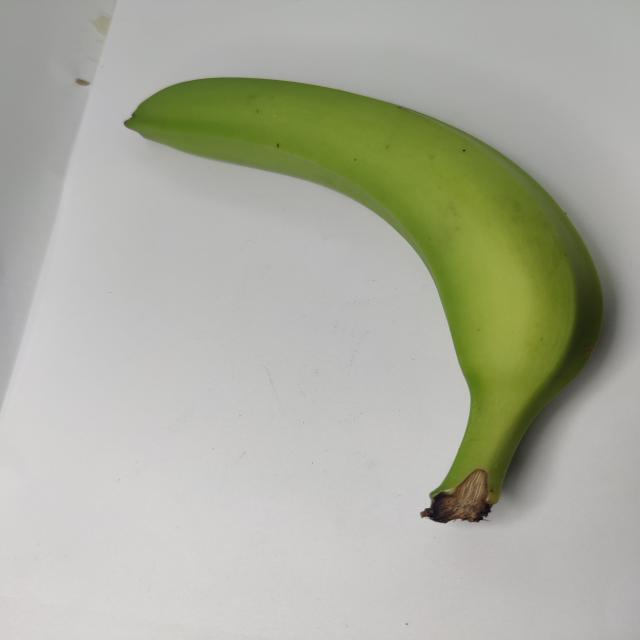raw: (98, 45, 636, 565)
